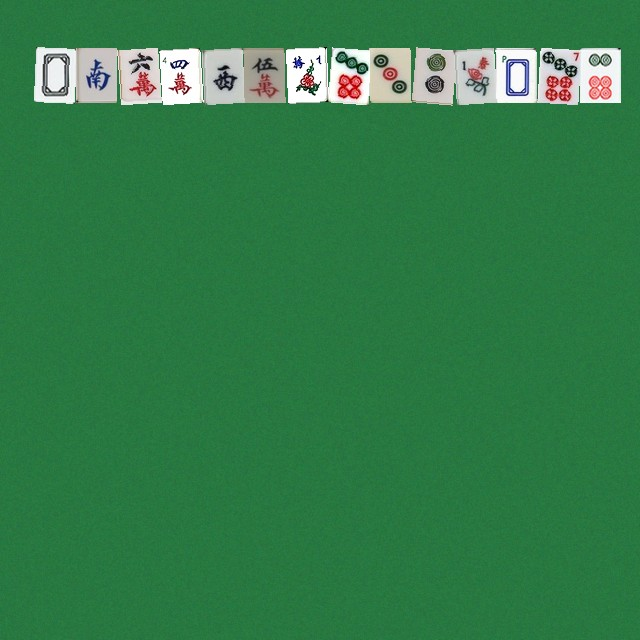tile: (33, 47, 74, 102), (75, 47, 116, 102), (117, 47, 158, 102), (159, 47, 200, 102), (201, 47, 242, 102), (243, 47, 284, 102), (285, 47, 326, 102), (327, 47, 368, 102), (369, 47, 410, 102), (411, 47, 452, 102), (453, 47, 494, 102), (495, 47, 536, 102), (537, 47, 578, 102), (579, 47, 620, 102)
